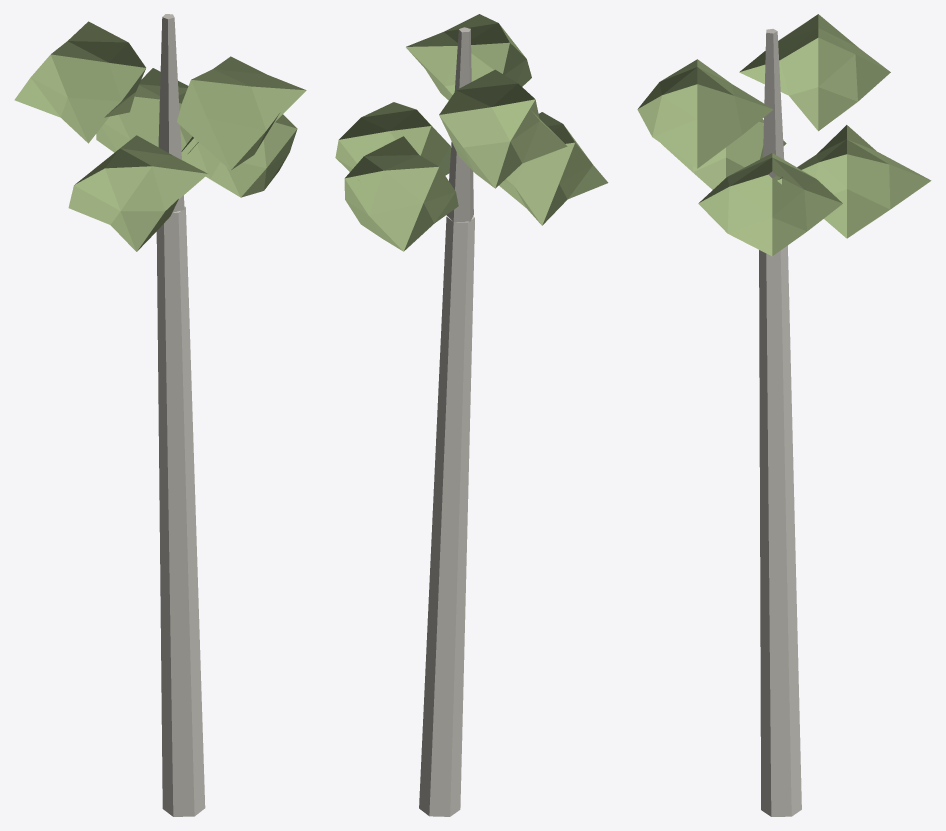
File: birch_v13.glb
3 views of the same model, side by side, from view 1: azimuth 30°, elevation 25°; view 2: azimuth 150°, elevation 25°; view 3: azimuth 270°, elevation 25° (orthographic). The views are drawn at different scales.
Parts seen in each view (by area): view 1: lod0; view 2: lod0; view 3: lod0.
Part boxes in pixels (x1,y1,x2,y2): lod0: [14, 14, 306, 816]; lod0: [335, 14, 608, 816]; lod0: [637, 14, 931, 816].
Size of what is drawn, in the model's own units: 1.83 by 5.41 by 1.87.
